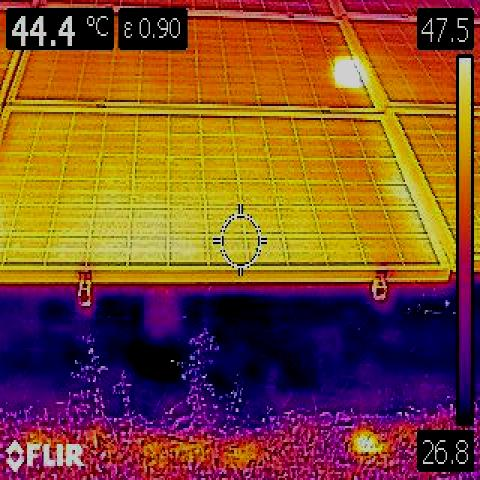fault: (335, 56, 359, 88)
